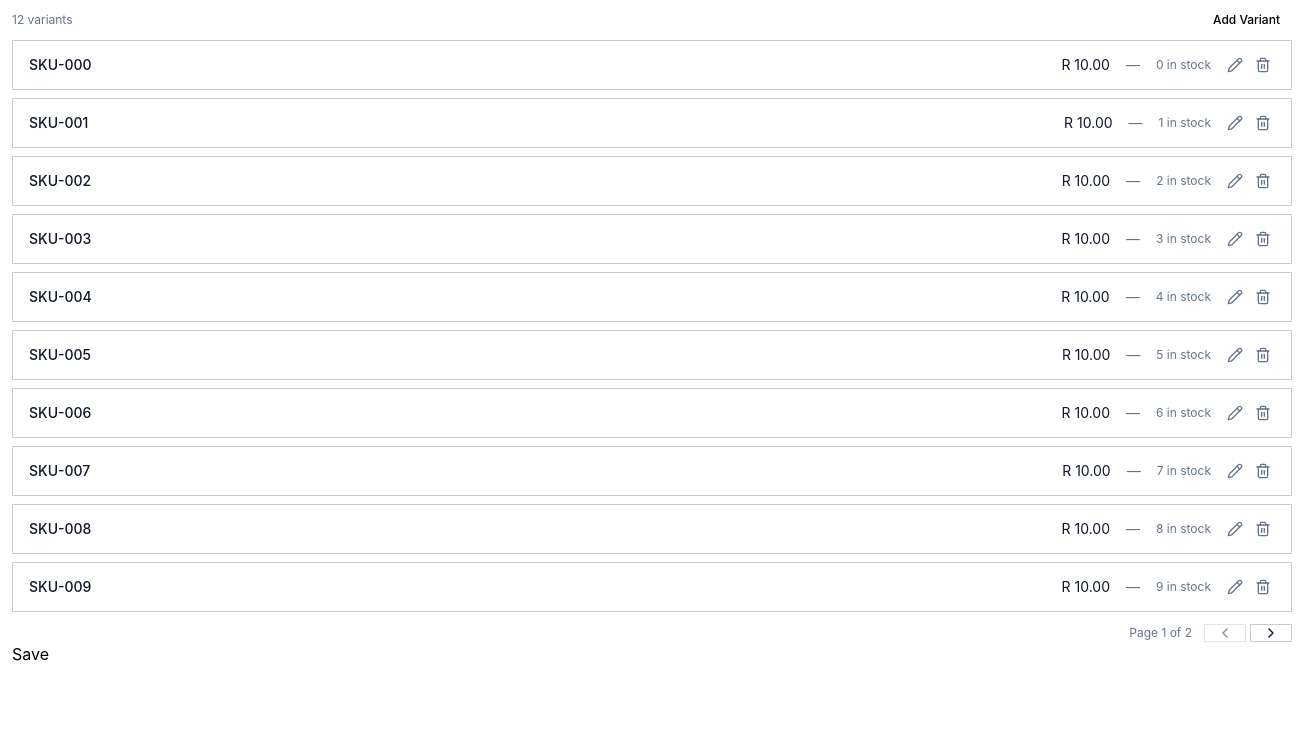
Scenario: VariantFields — pagination › pages 12 variants as 10 + 2 with global row indices
Check: the text "Page 1 of 2" is shown, box x1=1129 y1=625 x2=1192 y2=641
Check: the element with test id "variant-row-0" is shown, box x1=12 y1=40 x2=1292 y2=90
What coordinates should you click on to do the following:
click the button named "Next page"
I would click on:
 (1271, 633)
Its box is x1=1250 y1=624 x2=1292 y2=642.
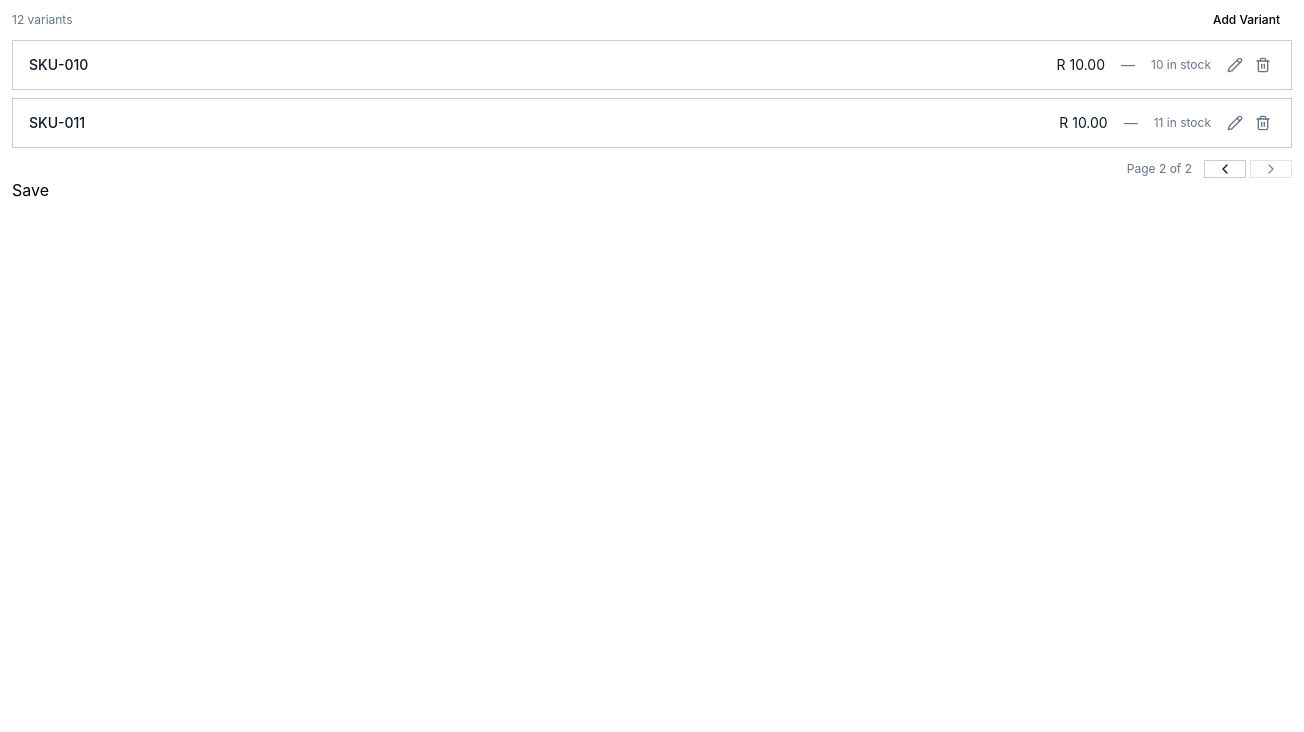
Check: the text "Page 2 of 2" is shown, box x1=1127 y1=161 x2=1192 y2=177
Check: the element with test id "variant-row-10" is shown, box x1=12 y1=40 x2=1292 y2=90
Check: the element with test id "variant-row-11" is shown, box x1=12 y1=98 x2=1292 y2=148
